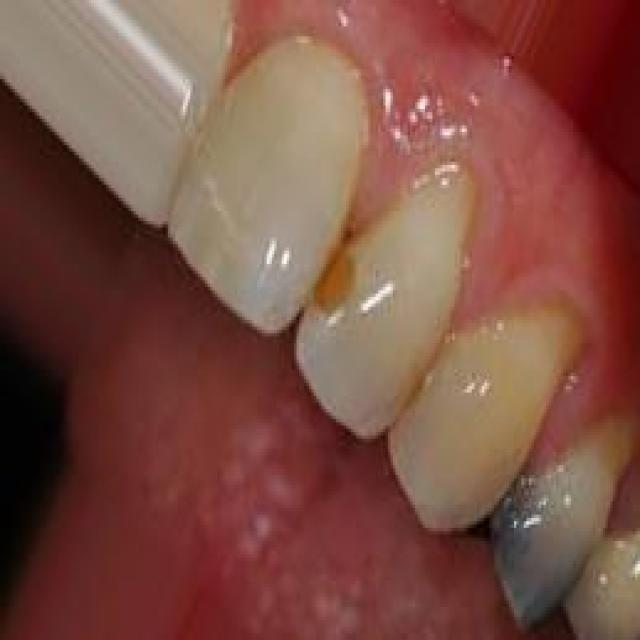caries: (311, 246, 372, 326)
